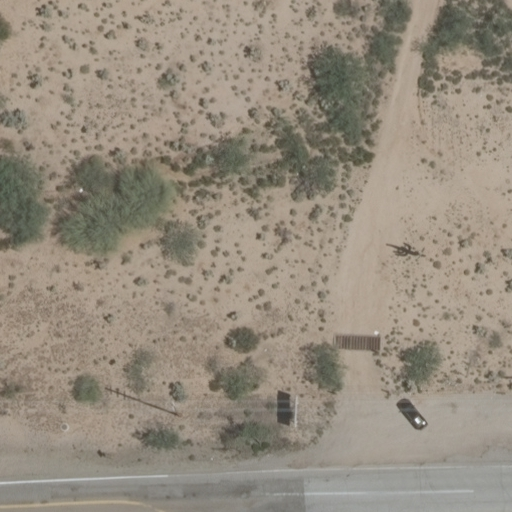DT: (162, 396, 192, 418)
